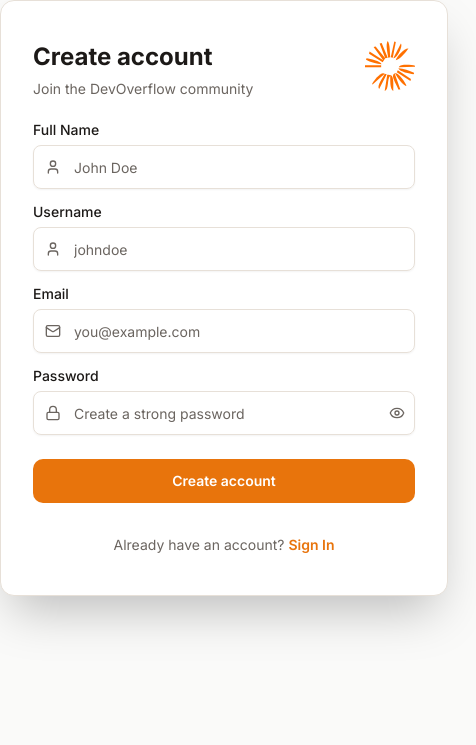
Test: SignUp AuthForm › Validation Feedback › should show errors for empty fields on submit
The width and height of the screenshot is (476, 745).
Step 1. Click the button "Create account" → (224, 481), box [33,459,415,503]
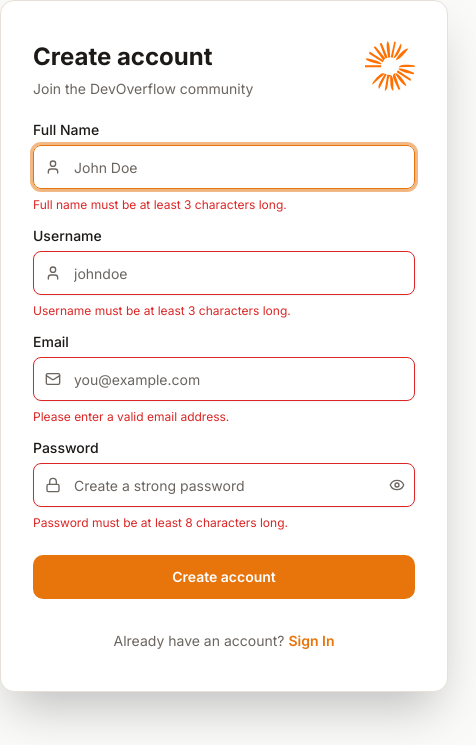
Expected: the text "Please enter a valid email address." is shown, [33,409,229,424]
Expected: the text "Username must be at least 3 characters long." is shown, [33,303,291,318]
Expected: the text "Full name must be at least 3 characters long." is shown, [33,197,287,212]
